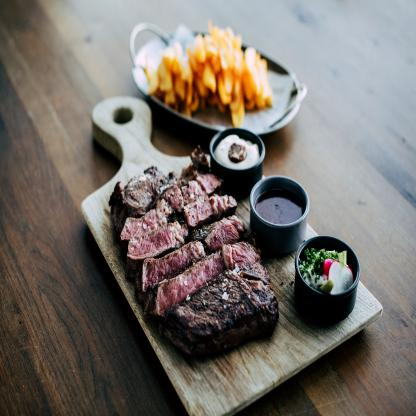Carne: (138, 239, 268, 311), (163, 278, 275, 354), (130, 241, 207, 288), (108, 204, 180, 245), (181, 190, 237, 231), (128, 217, 190, 253), (160, 174, 216, 207), (206, 213, 246, 250)
